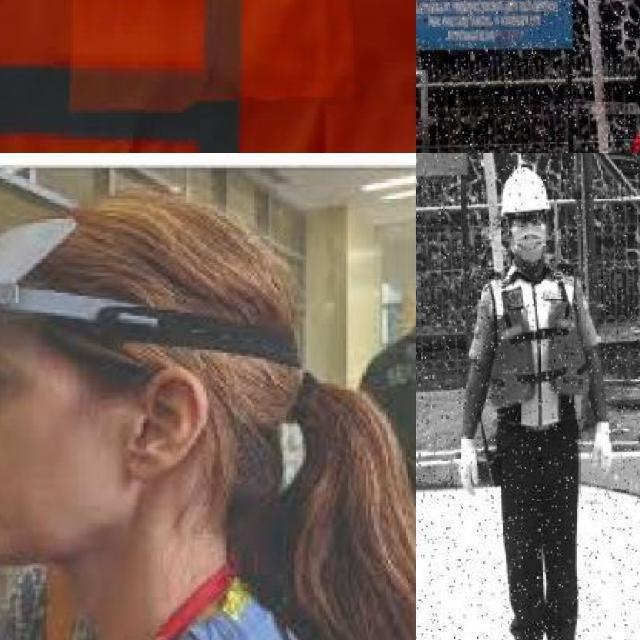apron: (457, 432, 483, 499), (590, 421, 613, 484)
